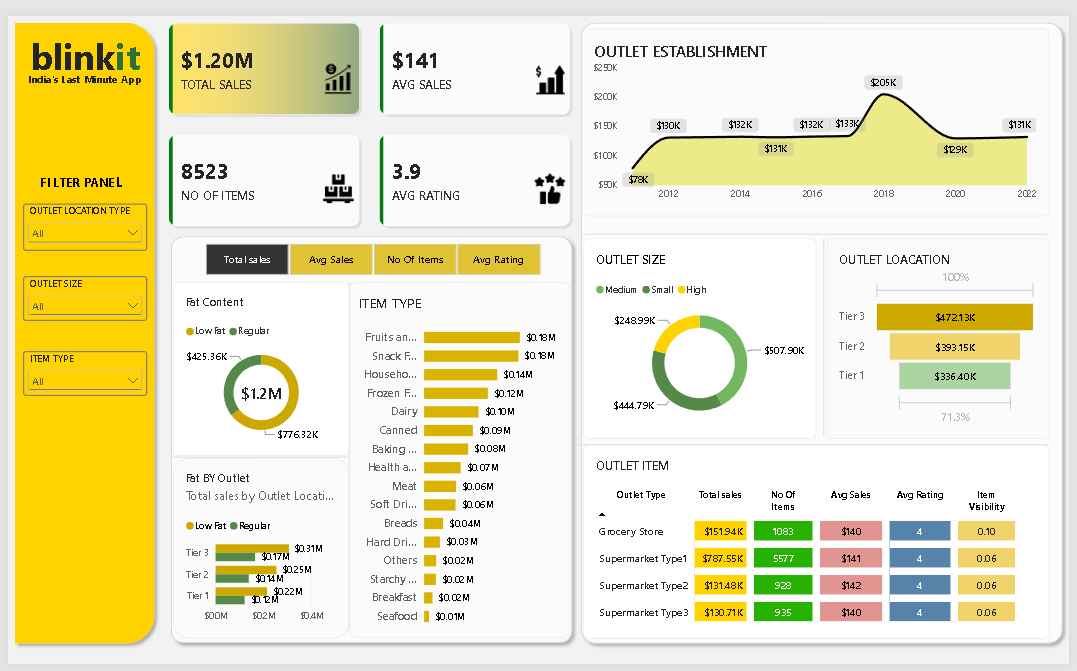

This screenshot's page, from the dashboard's own definition file:
{"tool":"powerbi","page":{"name":"Page 1","canvas":[1415,863],"ordinal":0},"visuals":[{"type":"shape","box":[0,0,204.3,845.7],"z":0},{"type":"textbox","box":[19.7,19.7,165.8,64.5],"z":1000},{"type":"textbox","box":[25,73.7,153.9,21.1],"z":2000},{"type":"cardVisual","fields":{"Data":["BlinkIT Grocery Data.Total sales","BlinkIT Grocery Data.Avg Sales","BlinkIT Grocery Data.No Of Items","BlinkIT Grocery Data.Avg Rating"]},"box":[204.3,0,554.3,290],"z":3000},{"type":"image","box":[411.8,63.2,56.6,40.8],"z":4000},{"type":"image","box":[689.5,64.5,65.8,40.8],"z":5000},{"type":"image","box":[402.6,209.2,75,40.8],"z":6000},{"type":"image","box":[693.4,209.2,57.9,40.8],"z":7000},{"type":"shape","box":[208.3,285,552.9,560],"z":8000},{"type":"donutChart","title":"Fat Content","fields":{"Category":["BlinkIT Grocery Data.Item Fat Content"],"Y":["BlinkIT Grocery Data.Total sales"]},"box":[220,355.7,235.7,231.4],"z":9000},{"type":"slicer","fields":{"Values":["Metrics.Metrics"]},"box":[243.3,301.7,485,45],"z":10000},{"type":"clusteredBarChart","title":"Fat BY Outlet","fields":{"Category":["BlinkIT Grocery Data.Outlet Location Type"],"Series":["BlinkIT Grocery Data.Item Fat Content"],"Y":["BlinkIT Grocery Data.Total sales"]},"box":[220,590,235,240],"z":11000},{"type":"shape","box":[218.3,578.3,235,20],"z":12000},{"type":"shape","box":[448.6,355.7,13.8,463.8],"z":13000},{"type":"shape","box":[755,0,660,845.7],"z":14000},{"type":"lineChart","title":"OUTLET ESTABLISHMENT","fields":{"Category":["BlinkIT Grocery Data.Outlet Establishment Year"],"Y":["BlinkIT Grocery Data.Total sales"]},"box":[765.7,17.1,622.9,250],"z":15000},{"type":"shape","box":[766.7,285,621.7,11.7],"z":16000},{"type":"donutChart","title":"OUTLET SIZE","fields":{"Category":["BlinkIT Grocery Data.Outlet Size"],"Y":["BlinkIT Grocery Data.Total sales"]},"box":[767.1,297.1,311.4,267.1],"z":17000},{"type":"shape","box":[1082.9,297.1,8.6,264.3],"z":18000},{"type":"funnel","title":"OUTLET LOACATION","fields":{"Category":["BlinkIT Grocery Data.Outlet Location Type"],"Y":["BlinkIT Grocery Data.Total sales"]},"box":[1091.4,297.1,297.1,267.1],"z":19000},{"type":"shape","box":[757.1,561.4,631.4,20],"z":20000},{"type":"pivotTable","title":"OUTLET ITEM","fields":{"Rows":["BlinkIT Grocery Data.Outlet Type"],"Values":["BlinkIT Grocery Data.Total sales","BlinkIT Grocery Data.No Of Items","BlinkIT Grocery Data.Avg Sales","BlinkIT Grocery Data.Avg Rating","Avg(BlinkIT Grocery Data.Item Visibility)"]},"box":[767.1,571.4,621.4,258.6],"z":21000},{"type":"slicer","fields":{"Values":["BlinkIT Grocery Data.Outlet Location Type"]},"box":[20,250,165.7,62.9],"z":22000},{"type":"slicer","fields":{"Values":["BlinkIT Grocery Data.Outlet Size"]},"box":[20,347.1,165.7,60],"z":23000},{"type":"slicer","fields":{"Values":["BlinkIT Grocery Data.Item Type"]},"box":[20,447.1,165.7,60],"z":24000},{"type":"textbox","box":[41.4,208.6,114.3,31.4],"z":25000},{"type":"barChart","title":"ITEM TYPE","fields":{"Category":["BlinkIT Grocery Data.Item Type"],"Y":["BlinkIT Grocery Data.Total sales"]},"box":[455,355,293.3,473.3],"z":26000}]}

Visuals, with their boxes in screenshot pixels (x1, y1, x2, y2), scaled from the page's 1415x863 canvas onto the 1077x671 screenshot:
shape: [0, 0, 155, 658]
textbox: [15, 15, 141, 65]
textbox: [19, 57, 136, 74]
cardVisual - BlinkIT Grocery Data.Total sales x BlinkIT Grocery Data.Avg Sales: [155, 0, 577, 225]
image: [313, 49, 357, 81]
image: [525, 50, 575, 82]
image: [306, 163, 364, 194]
image: [528, 163, 572, 194]
shape: [159, 222, 579, 657]
"Fat Content" donutChart: [167, 277, 347, 456]
slicer - Metrics.Metrics: [185, 235, 554, 270]
"Fat BY Outlet" clusteredBarChart: [167, 459, 346, 645]
shape: [166, 450, 345, 465]
shape: [341, 277, 352, 637]
shape: [575, 0, 1076, 658]
"OUTLET ESTABLISHMENT" lineChart: [583, 13, 1057, 208]
shape: [584, 222, 1057, 231]
"OUTLET SIZE" donutChart: [584, 231, 821, 439]
shape: [824, 231, 831, 436]
"OUTLET LOACATION" funnel: [831, 231, 1057, 439]
shape: [576, 436, 1057, 452]
"OUTLET ITEM" pivotTable: [584, 444, 1057, 645]
slicer - BlinkIT Grocery Data.Outlet Location Type: [15, 194, 141, 243]
slicer - BlinkIT Grocery Data.Outlet Size: [15, 270, 141, 317]
slicer - BlinkIT Grocery Data.Item Type: [15, 348, 141, 394]
textbox: [32, 162, 119, 187]
"ITEM TYPE" barChart: [346, 276, 570, 644]
